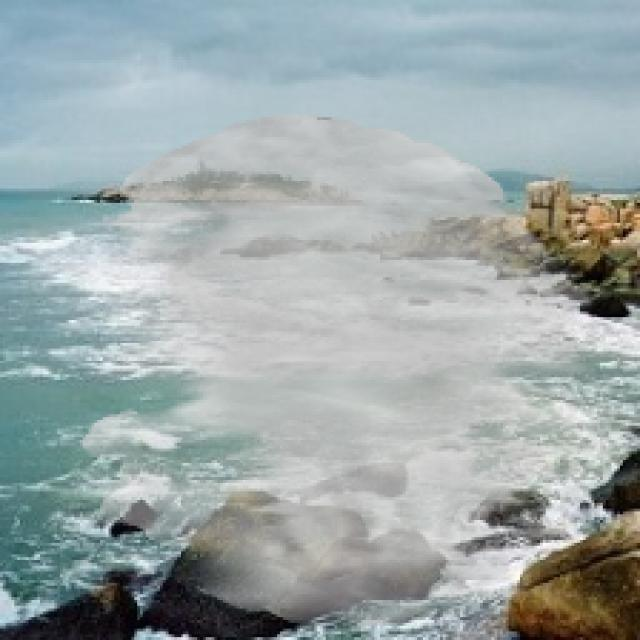smoke: (80, 114, 600, 629)
